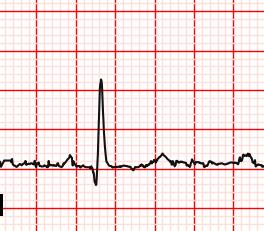Pathological Q Wave: (85, 160, 104, 190)
